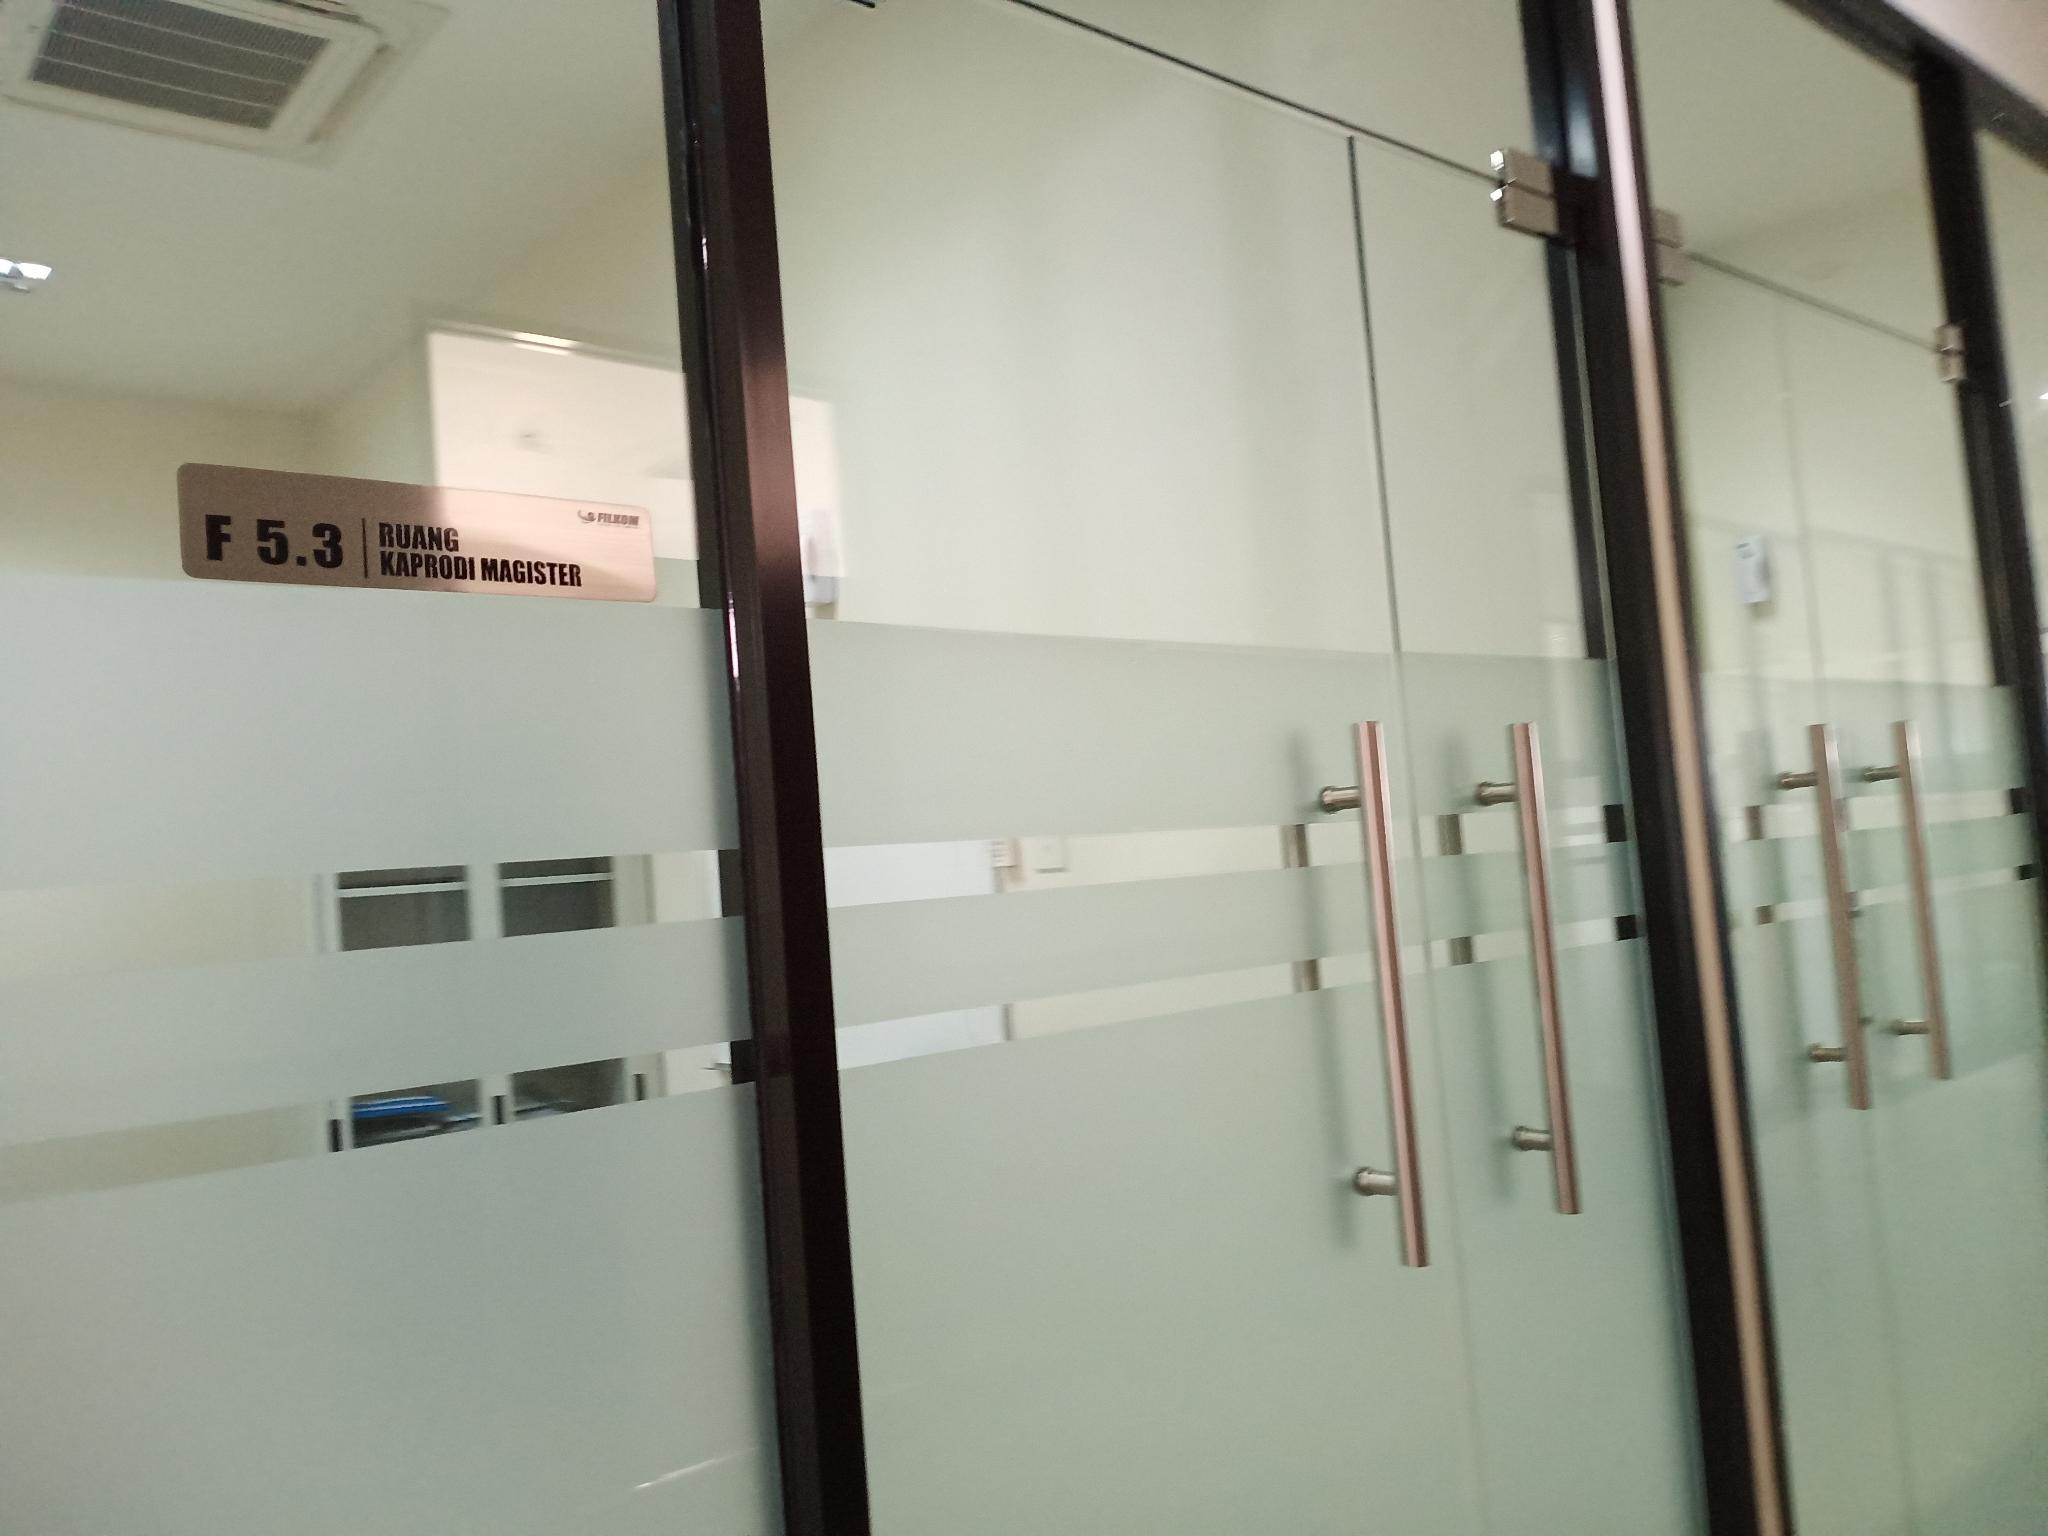plate: (177, 461, 658, 603)
